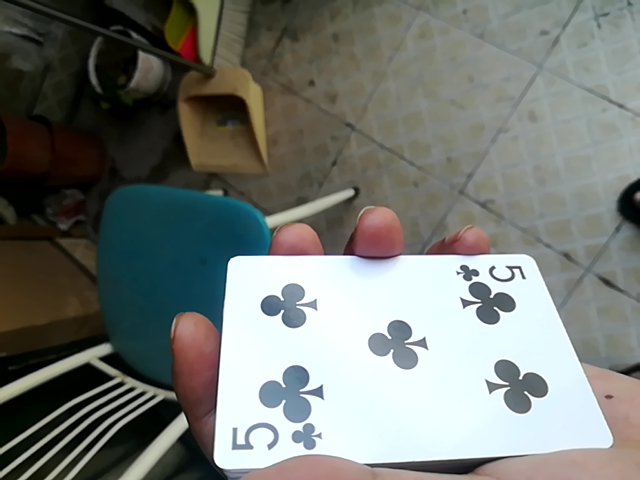mh 5: (206, 247, 608, 469)
